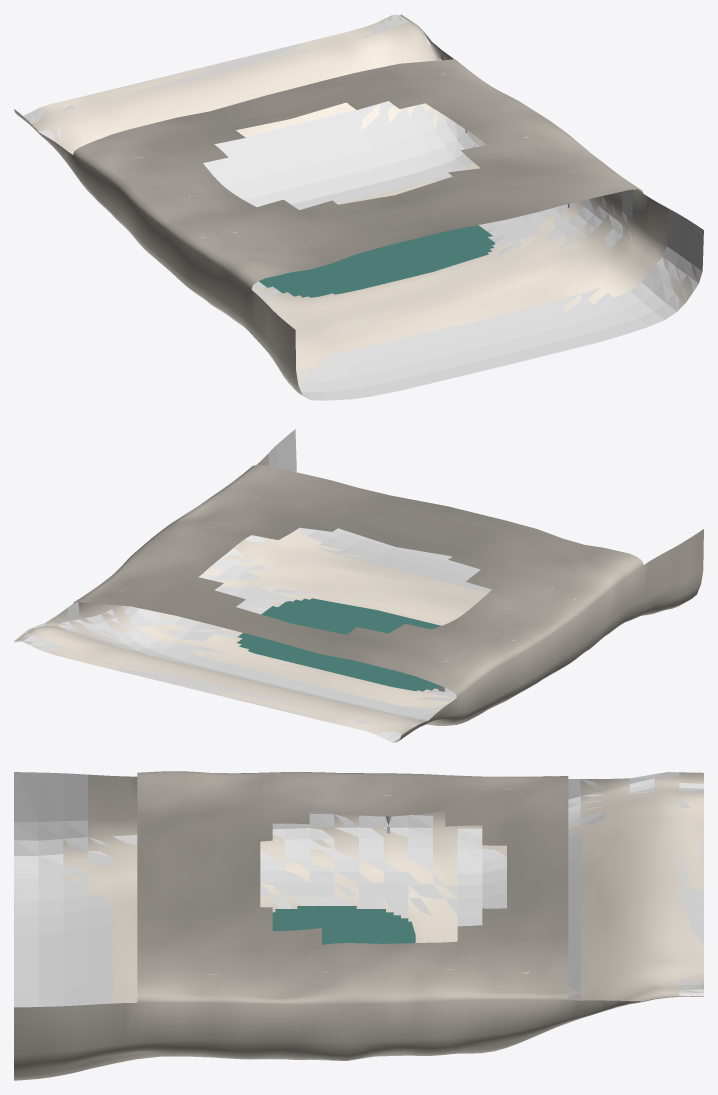
File: cenote_pool.glb
3 renders of one model, top to bottom at view 1: azimuth 30°, elevation 25°; view 2: azimuth 150°, elevation 25°; view 3: azimuth 270°, elevation 25°, orthographic. The views are drawn at different scales.
Visible parts, largest first — view 1: Rock, cenote_pool-col-col, Water; view 2: Rock, cenote_pool-col-col, Water; view 3: Rock, cenote_pool-col-col, Water.
Part boxes in pixels (x1=…): Rock: x1=14, y1=14, x2=698, y2=395; cenote_pool-col-col: x1=23, y1=14, x2=703, y2=400; Water: x1=259, y1=225, x2=494, y2=297; Rock: x1=14, y1=446, x2=703, y2=741; cenote_pool-col-col: x1=16, y1=429, x2=661, y2=742; Water: x1=237, y1=598, x2=441, y2=691; Rock: x1=14, y1=771, x2=703, y2=1080; cenote_pool-col-col: x1=14, y1=772, x2=703, y2=1062; Water: x1=272, y1=906, x2=415, y2=944.
Size of the model in its own units: 56.5 by 13.28 by 70.
